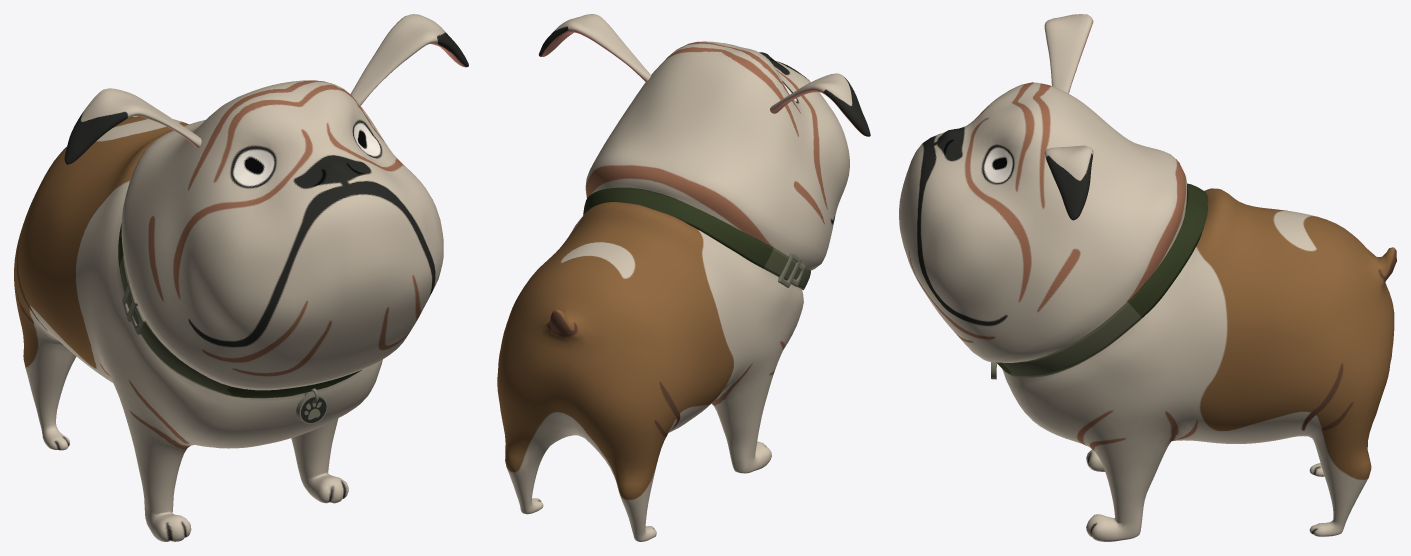
The model's file is dog_englischeBulldogge.glb.
3 renders of one model, left to right at view 1: azimuth 30°, elevation 25°; view 2: azimuth 150°, elevation 25°; view 3: azimuth 270°, elevation 25°, orthographic. The views are drawn at different scales.
Visible parts, largest first — view 1: english_bulldog.1; view 2: english_bulldog.1; view 3: english_bulldog.1.
Boxes of the visible parts, left/top/right/bottom form: english_bulldog.1: left=14, top=14, right=468, bottom=541; english_bulldog.1: left=497, top=14, right=870, bottom=541; english_bulldog.1: left=899, top=14, right=1396, bottom=541.
Size of the model in its own units: 0.0189 by 0.0213 by 0.0228.
1 material, 1 textured.
